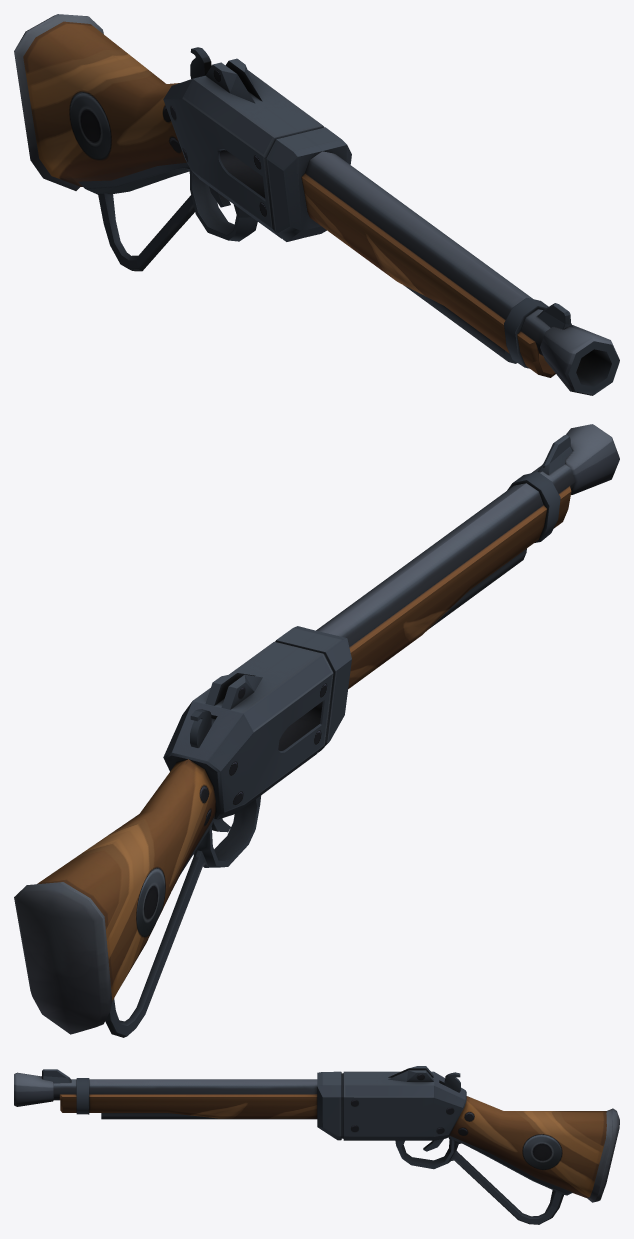
Rendered from gun_c02.fbx.
3 views of the same model, one above another, from view 1: azimuth 30°, elevation 25°; view 2: azimuth 150°, elevation 25°; view 3: azimuth 270°, elevation 25° (orthographic). The views are drawn at different scales.
Parts seen in each view (by area): view 1: gun_c02; view 2: gun_c02; view 3: gun_c02.
Part boxes in pixels (box(x1,y1,x2,y2)): gun_c02: box(14, 14, 619, 395); gun_c02: box(14, 424, 619, 1037); gun_c02: box(14, 1066, 619, 1224).
Bounding box in the file's own units: 11.65 × 123 × 34.88.
